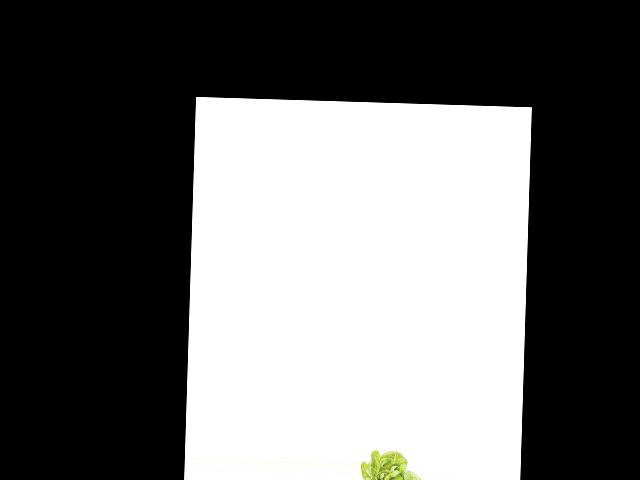lettuce: (361, 448, 424, 480)
